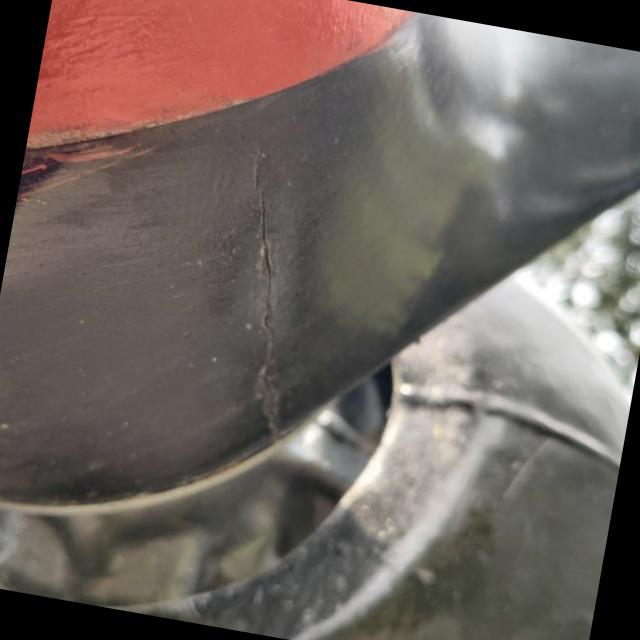crack: (141, 119, 380, 468)
